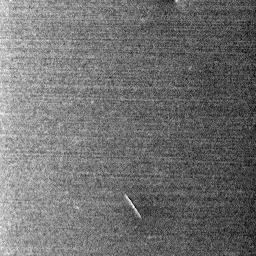sct: (122, 192, 146, 222)
